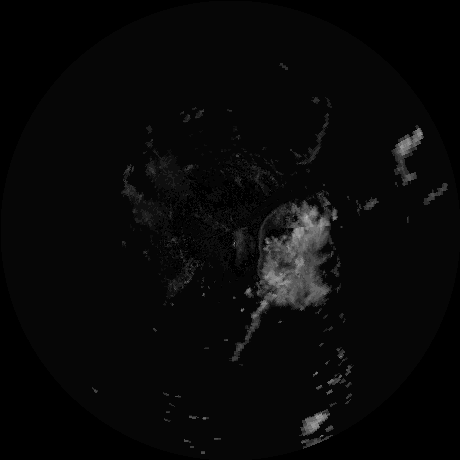frontgust: (256, 208, 277, 276)
